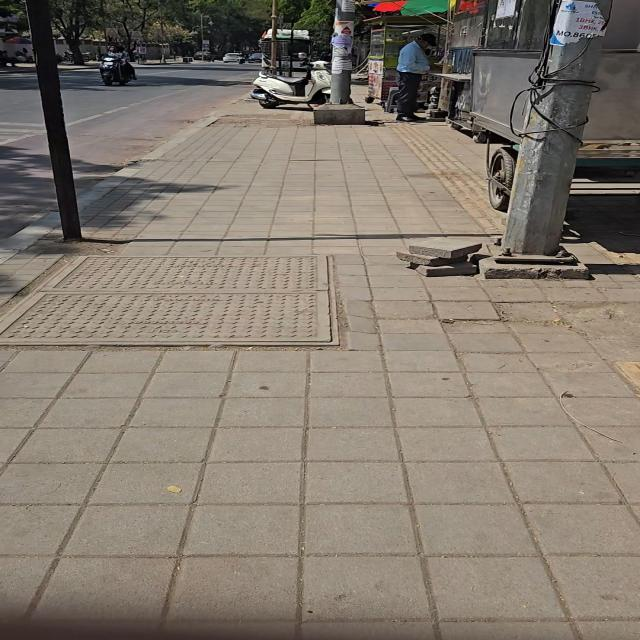bike: (0, 256, 337, 345), (503, 0, 611, 255), (27, 0, 81, 240), (251, 61, 330, 108), (397, 33, 436, 121), (331, 0, 354, 103), (99, 54, 133, 85), (108, 45, 136, 79), (271, 0, 278, 72), (288, 21, 294, 77), (200, 14, 203, 50)
